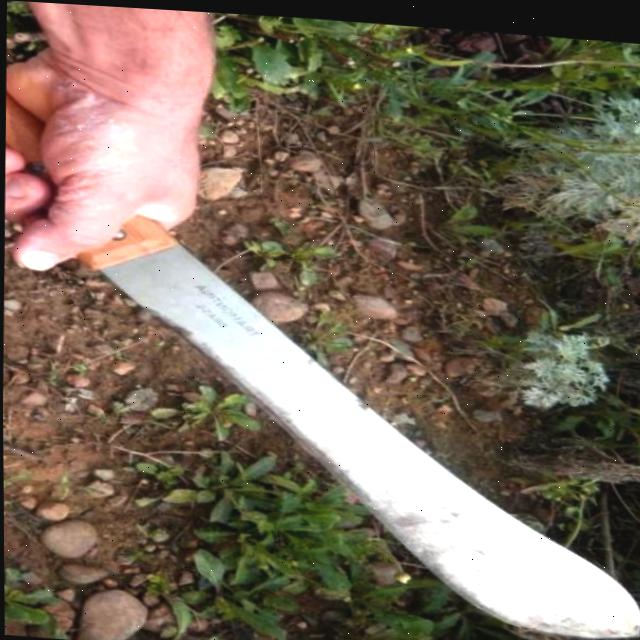long knife: (61, 227, 640, 640)
